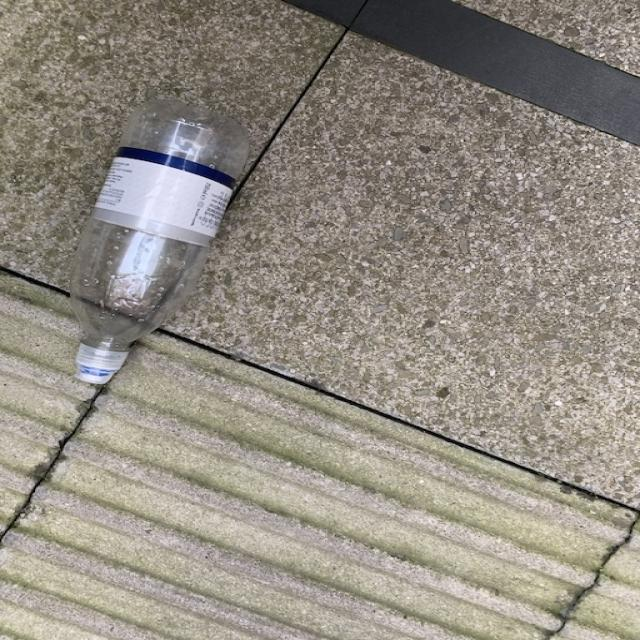litter: (60, 97, 255, 383)
